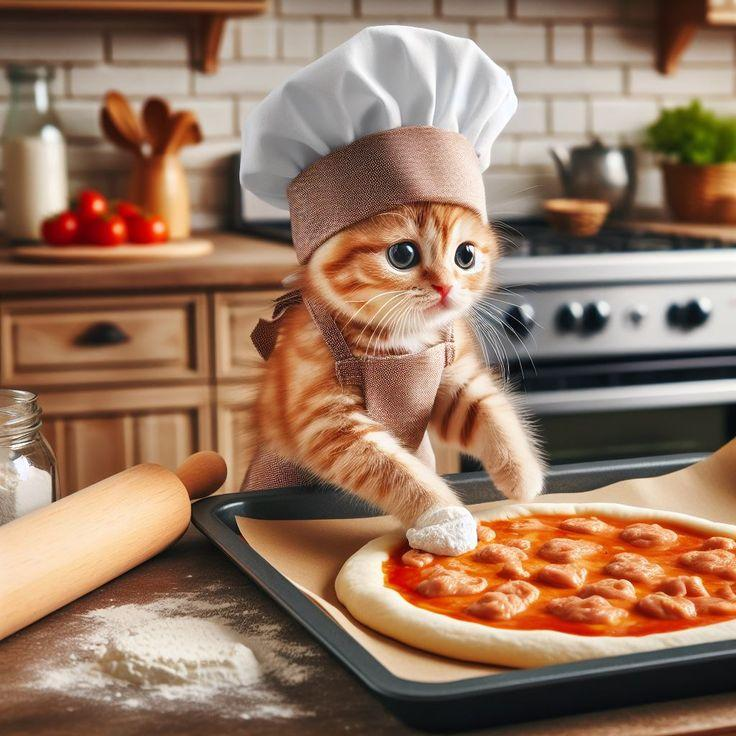kedo: (241, 200, 549, 552)
